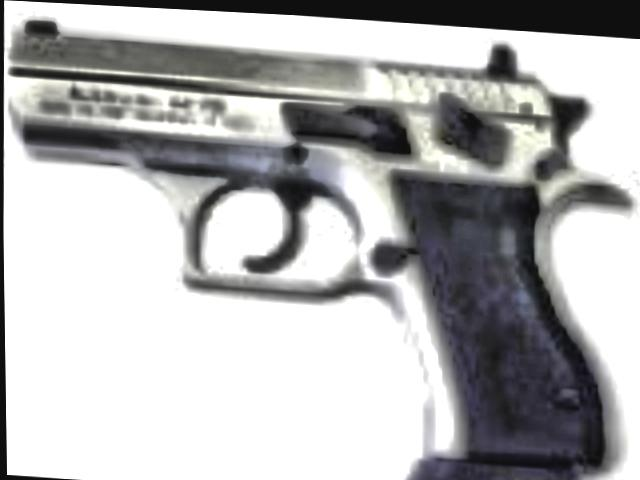pistol: (0, 6, 634, 480)
